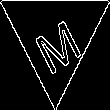M_NW: (26, 3, 84, 70)
